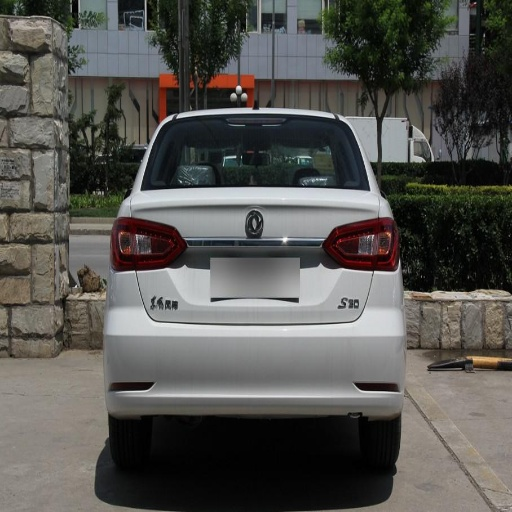back_bumper: (107, 271, 401, 412)
tailgate: (129, 197, 167, 271)
trunk: (133, 190, 380, 324)
